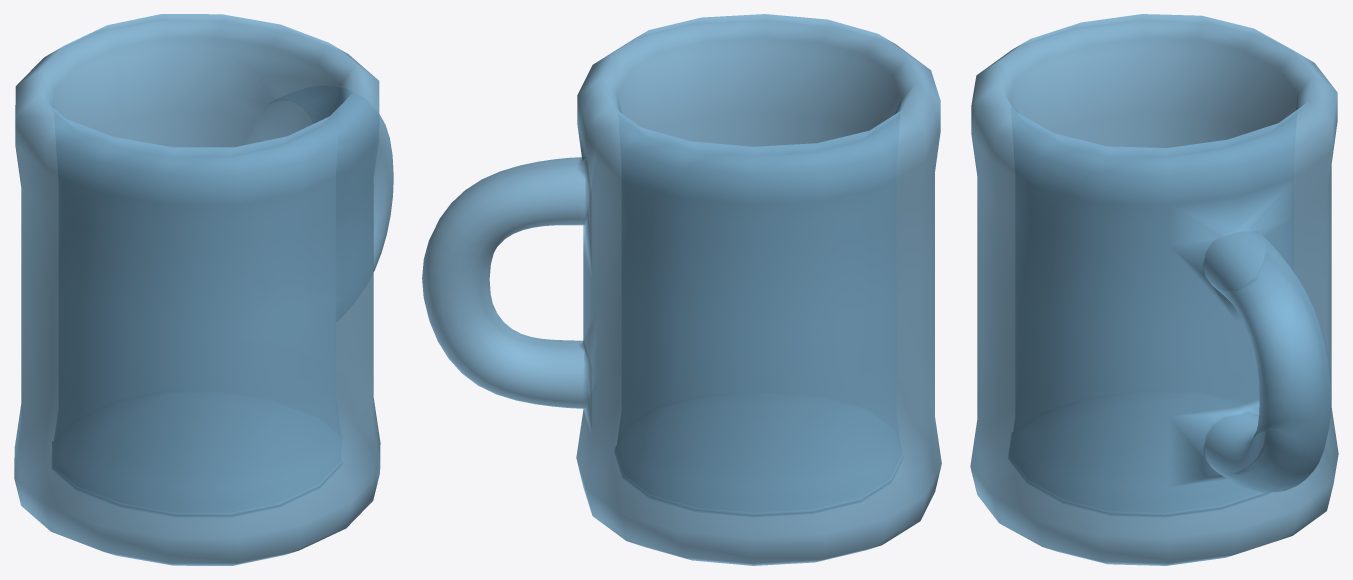
Rendered from davebeer.glb.
The picture shows the model from 3 angles, left to right: view 1: azimuth 30°, elevation 25°; view 2: azimuth 150°, elevation 25°; view 3: azimuth 270°, elevation 25°; orthographic projection.
Parts seen in each view (by area): view 1: beer; view 2: beer; view 3: beer.
Part boxes in pixels (left/top/right/bottom): beer: left=14, top=14, right=393, bottom=565; beer: left=422, top=14, right=941, bottom=565; beer: left=970, top=14, right=1338, bottom=565.
Size of the model in its own units: 0.6348 by 0.6053 by 0.4812.
